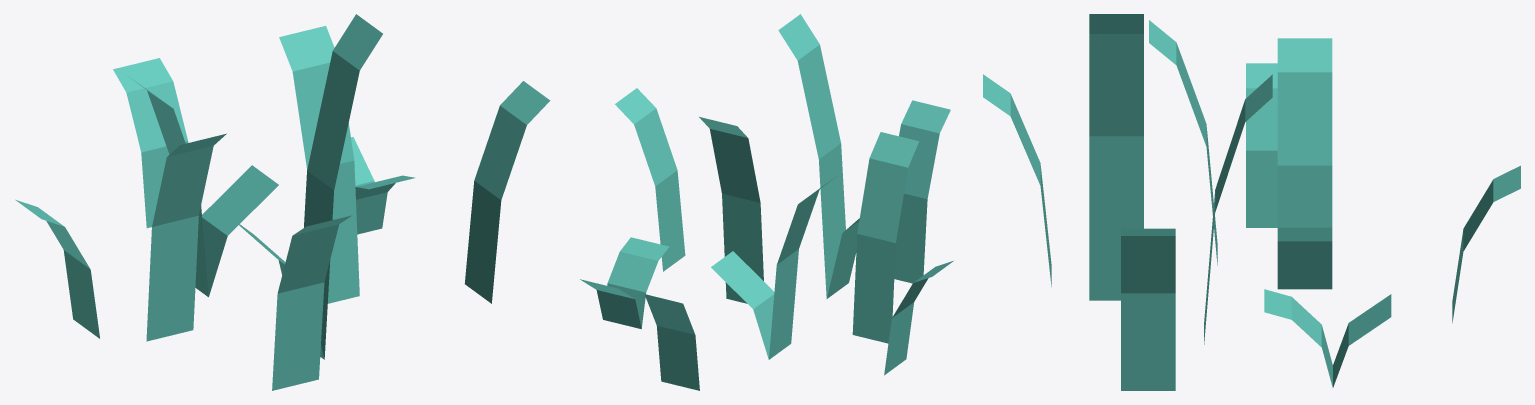
Rendered from grass.glb.
The picture shows the model from 3 angles, left to right: view 1: azimuth 30°, elevation 25°; view 2: azimuth 150°, elevation 25°; view 3: azimuth 270°, elevation 25°; orthographic projection. The views are drawn at different scales.
Visible parts, largest first — view 1: grass; view 2: grass; view 3: grass.
Part boxes in pixels (x1,y1,x2,y2): grass: (15,14,550,390); grass: (580,14,953,390); grass: (983,14,1520,390).
Size of the model in its own units: 0.3811 by 0.254 by 0.3922.
